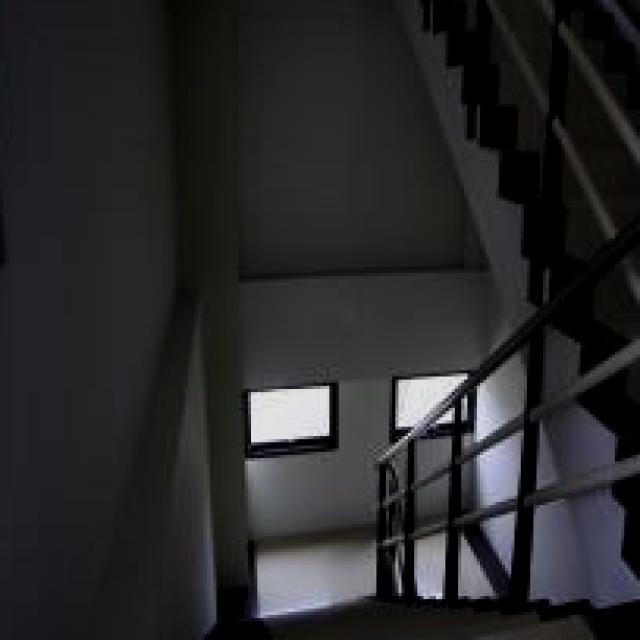downstair: (195, 619, 522, 640)
